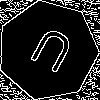U: (22, 25, 77, 83)
